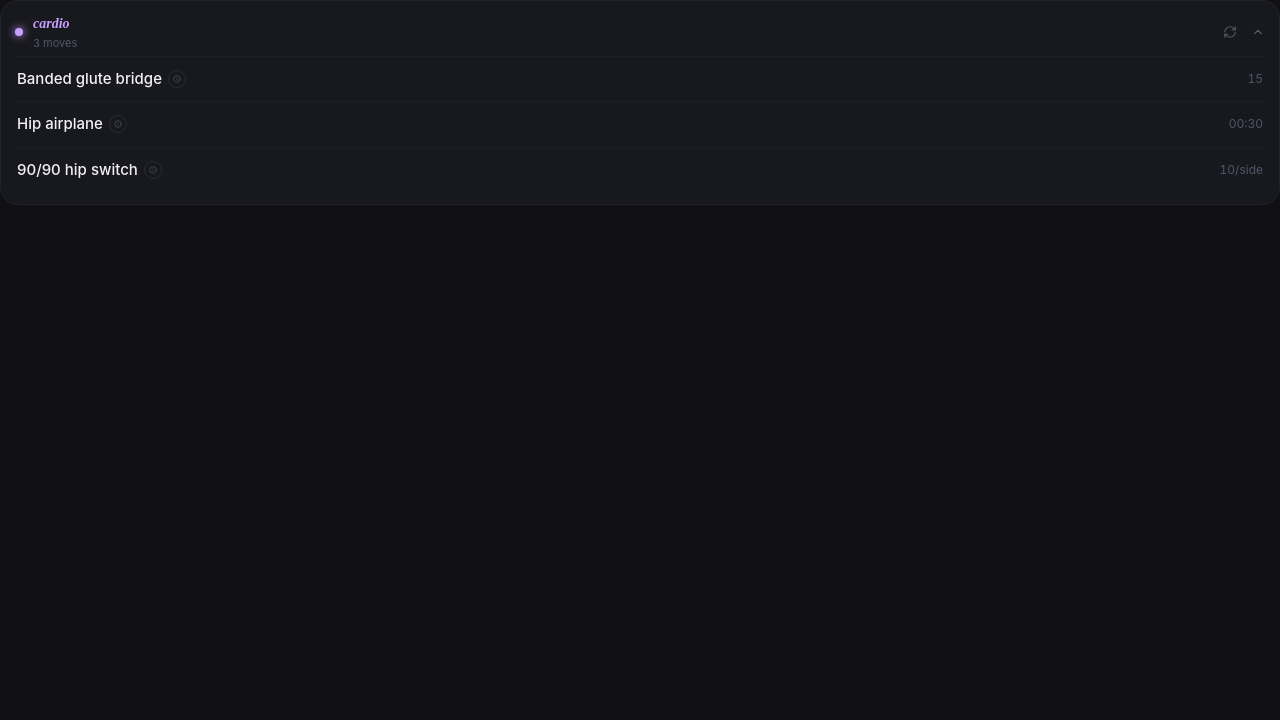
Scenario: RoutineSlot › cardio picker shows the cardio-specific chips
The width and height of the screenshot is (1280, 720).
Click the button named "regenerate".
click(1230, 32)  # box [1223, 25, 1237, 39]
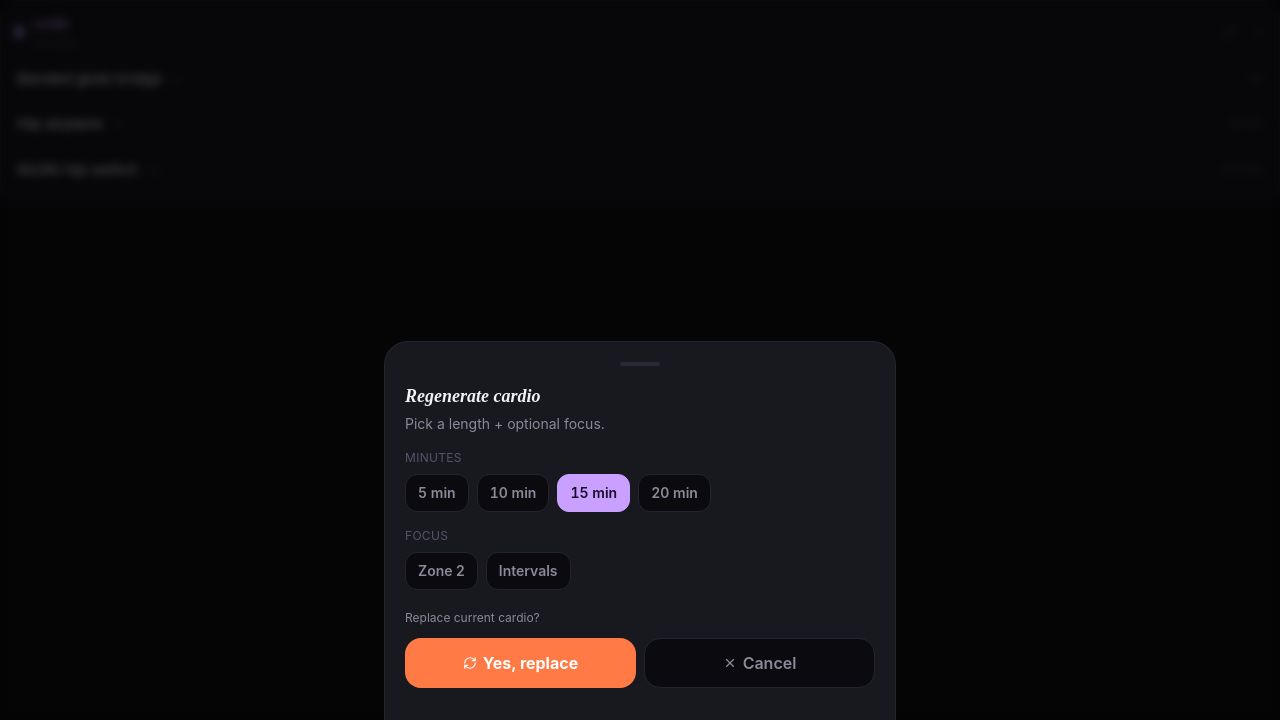
Expected: the button "15 min" is shown, [557, 474, 630, 512]
Expected: the button "Zone 2" is shown, [405, 552, 478, 590]
Expected: the button "Intervals" is shown, [486, 552, 571, 590]
